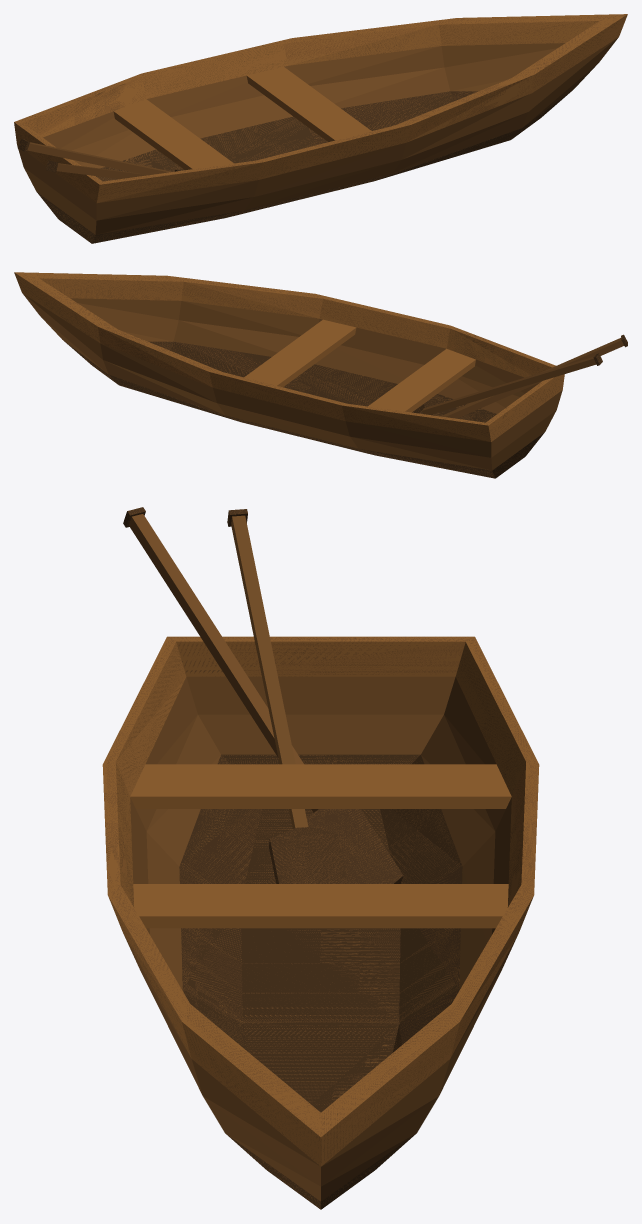
The picture shows the model from 3 angles, top to bottom: view 1: azimuth 30°, elevation 25°; view 2: azimuth 150°, elevation 25°; view 3: azimuth 270°, elevation 25°; orthographic projection. The views are drawn at different scales.
Parts seen in each view (by area): view 1: group_2 (×5), group_4, group_3, group_1, group_0; view 2: group_2 (×6), group_4, group_3, group_1, group_0; view 3: group_2 (×5), group_3, group_4, group_0 (×2), group_1 (×2).
Boxes of the visible parts, left/top/right/bottom form: group_2 (×5): left=14, top=14, right=627, bottom=243; group_4: left=246, top=67, right=371, bottom=141; group_3: left=113, top=99, right=233, bottom=170; group_1: left=27, top=142, right=172, bottom=175; group_0: left=56, top=163, right=146, bottom=178; group_2 (×6): left=14, top=272, right=564, bottom=478; group_4: left=244, top=319, right=356, bottom=387; group_3: left=368, top=348, right=475, bottom=412; group_1: left=422, top=356, right=596, bottom=414; group_0: left=441, top=338, right=624, bottom=418; group_2 (×5): left=102, top=636, right=539, bottom=1209; group_3: left=130, top=764, right=511, bottom=808; group_4: left=133, top=884, right=508, bottom=928; group_0 (×2): left=129, top=514, right=403, bottom=883; group_1 (×2): left=231, top=515, right=347, bottom=883.
Bounding box in the file's own units: 194 × 64.53 × 37.04.
